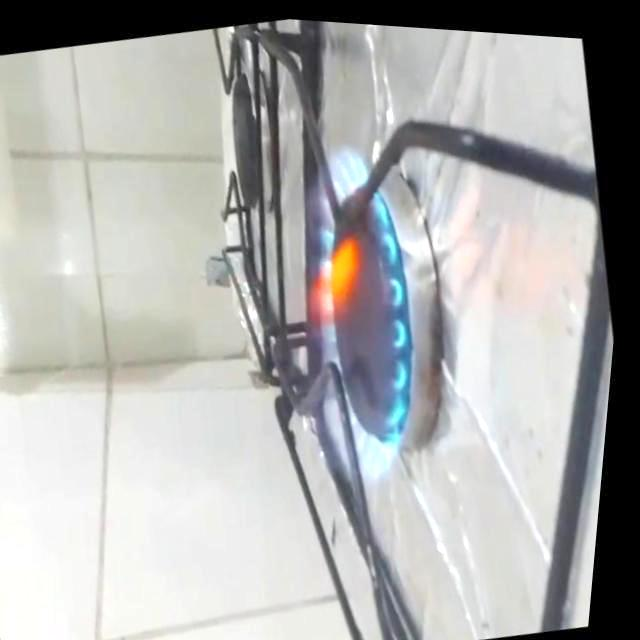fire: (262, 122, 462, 494)
